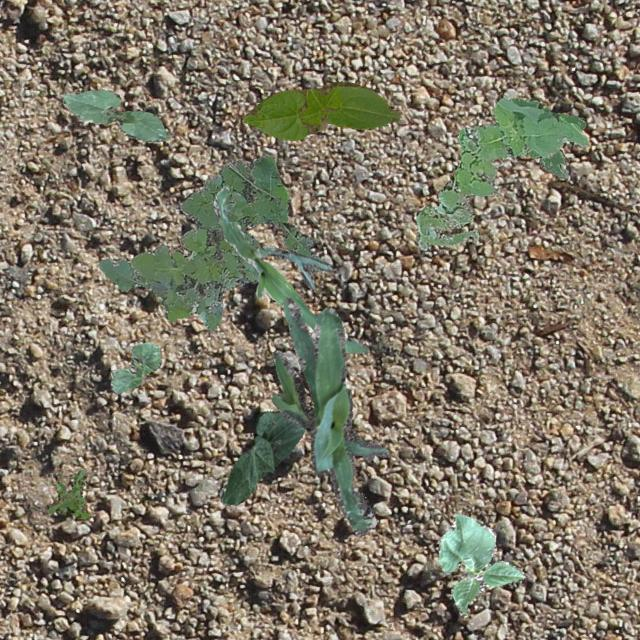crop: (270, 296, 388, 536), (212, 185, 368, 352), (243, 80, 399, 140), (438, 512, 524, 616), (218, 410, 304, 504), (61, 88, 168, 140), (110, 342, 160, 392)
weed: (96, 154, 322, 330), (414, 97, 588, 250), (528, 112, 584, 178), (44, 468, 88, 518)
